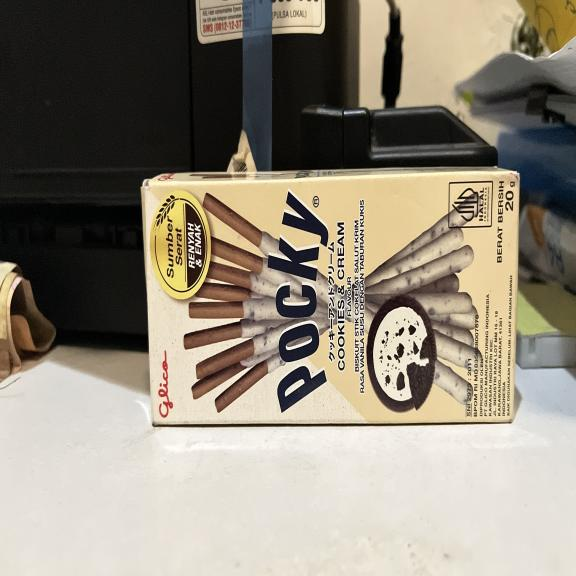Kertas: (146, 173, 521, 427)
